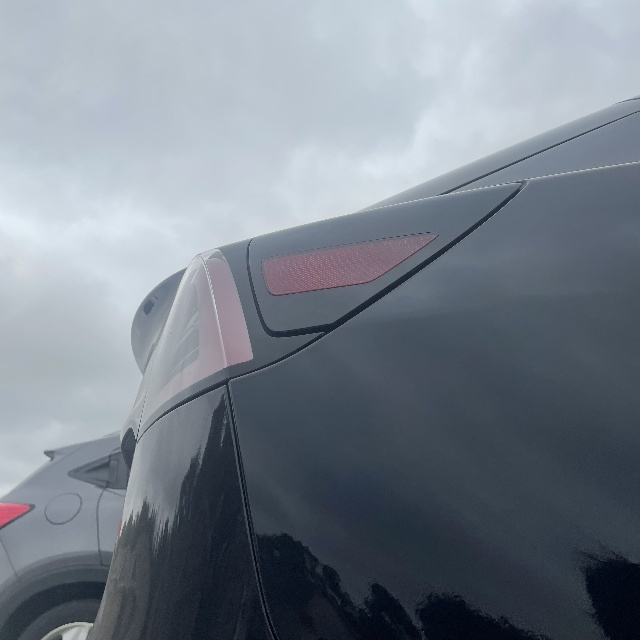reflector: (260, 233, 439, 295)
